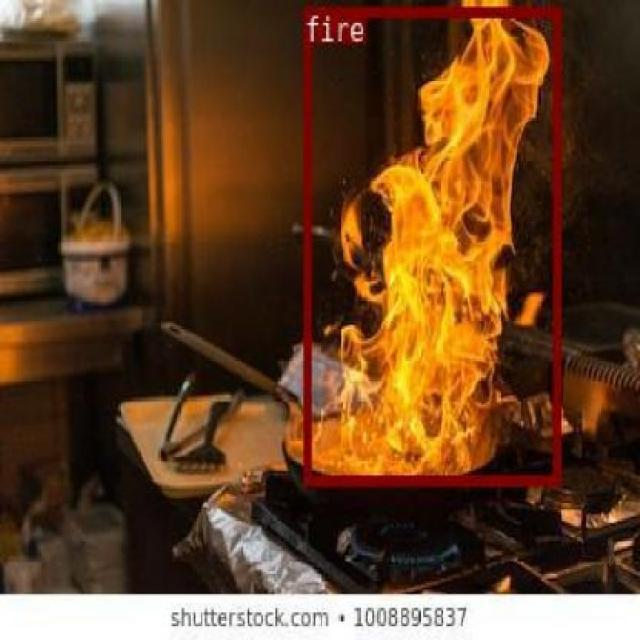Fire: (303, 4, 559, 484)
